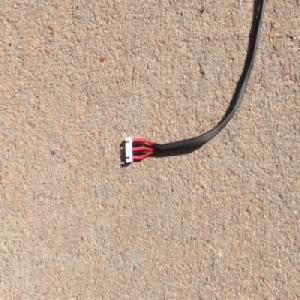Wire: (123, 0, 268, 167)
